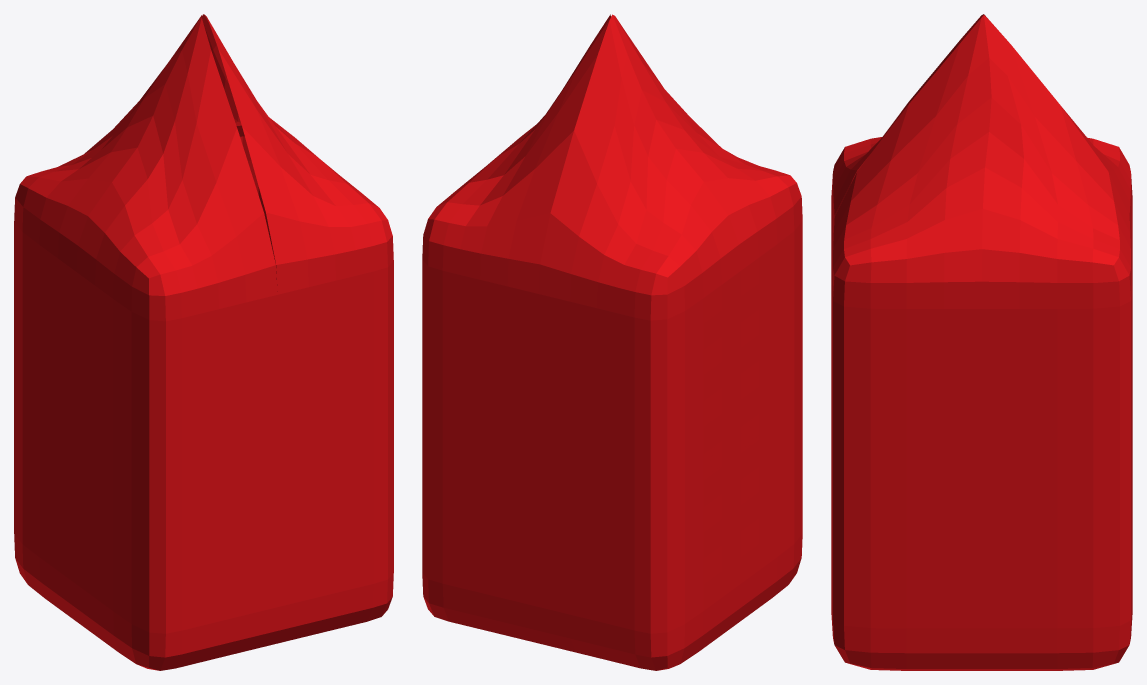
File: ketchupCannon.fbx
3 renders of one model, left to right at view 1: azimuth 30°, elevation 25°; view 2: azimuth 150°, elevation 25°; view 3: azimuth 270°, elevation 25°, orthographic. The views are drawn at different scales.
Visible parts, largest first — view 1: Cube; view 2: Cube; view 3: Cube.
Boxes of the visible parts, left/top/right/bottom form: Cube: left=14, top=14, right=393, bottom=670; Cube: left=422, top=14, right=802, bottom=670; Cube: left=831, top=14, right=1132, bottom=670.
Size of the model in its own units: 24.84 by 54.78 by 24.84.
